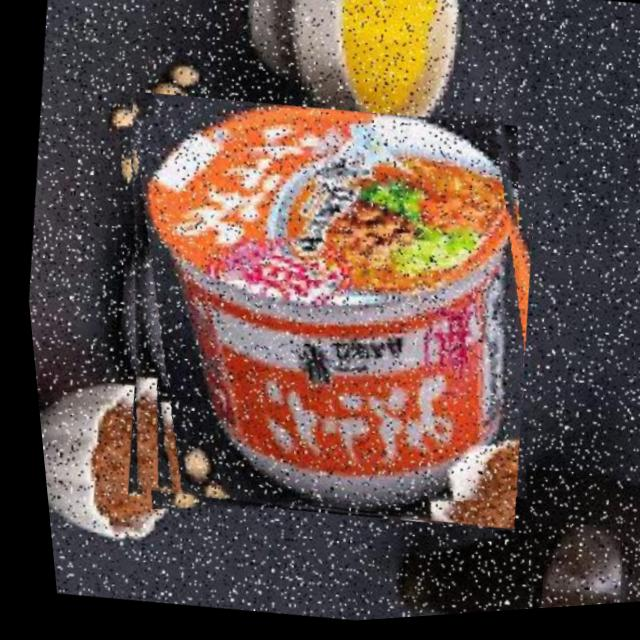Miscellaneous: (66, 72, 564, 560)
